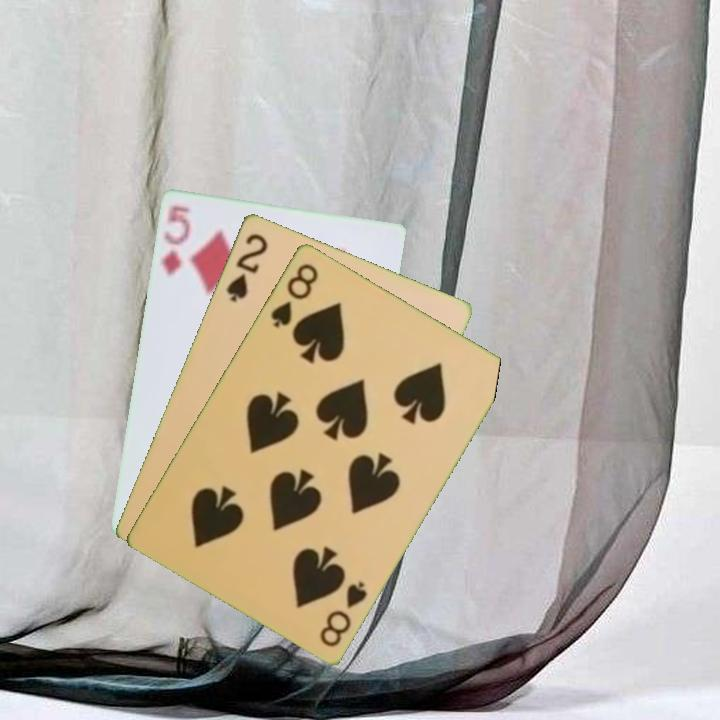2s: (222, 229, 270, 304)
5d: (158, 201, 193, 279)
8s: (316, 577, 370, 650), (267, 259, 321, 330)
